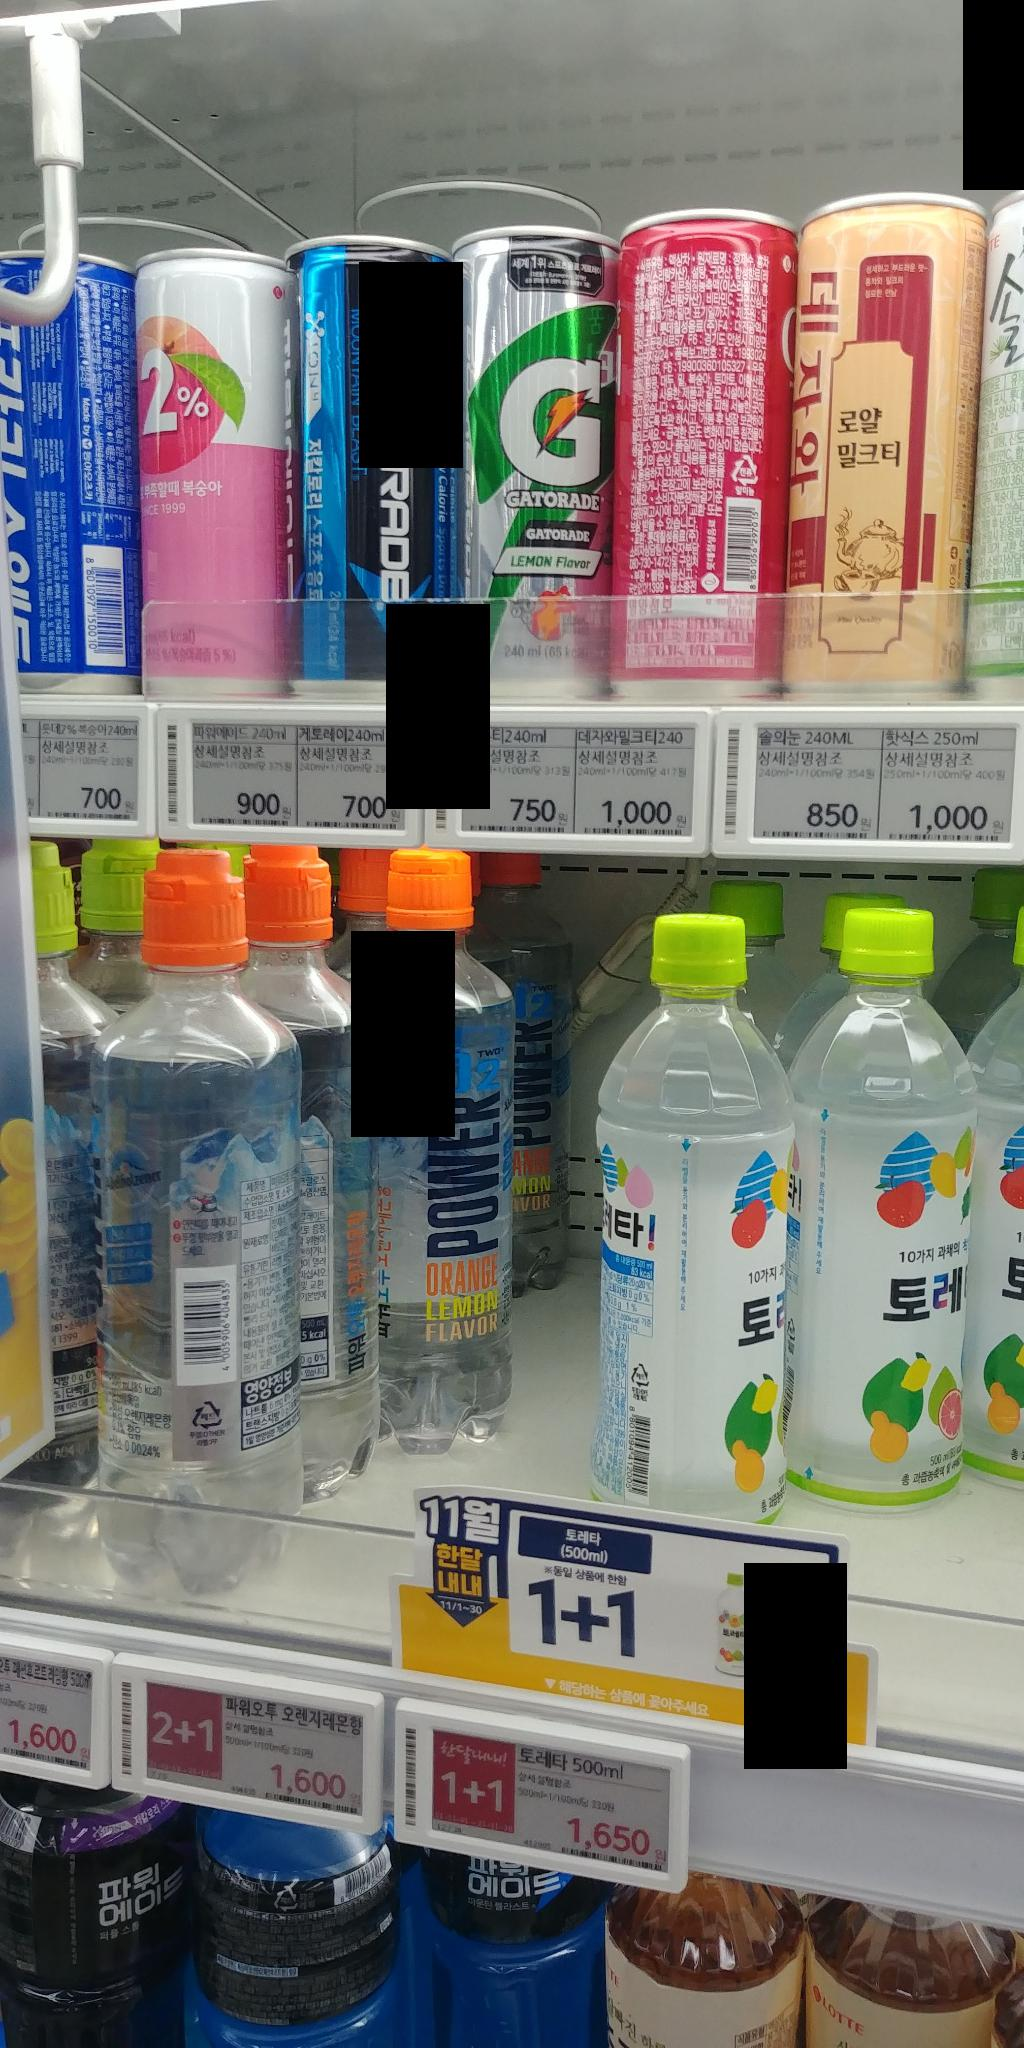powerO2_orange: (88, 846, 312, 1600), (340, 836, 524, 1463)
toreta: (580, 908, 805, 1548), (789, 891, 980, 1503)
